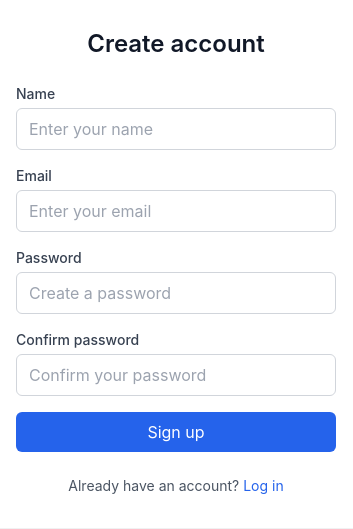
Signup › shows validation error when passwords do not match
In the field labelled "Name": [176, 129] box top-left (16, 108), bottom-right (336, 150), type "Test User"
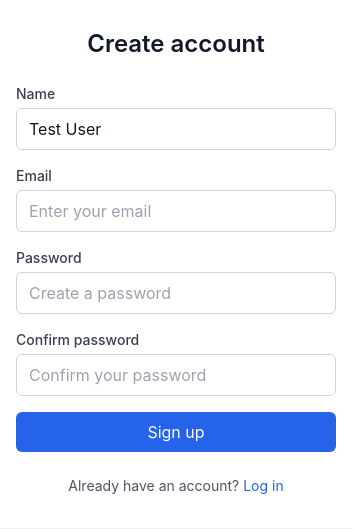
In the field labelled "Email": [176, 211] box top-left (16, 190), bottom-right (336, 232), type "test@example.com"
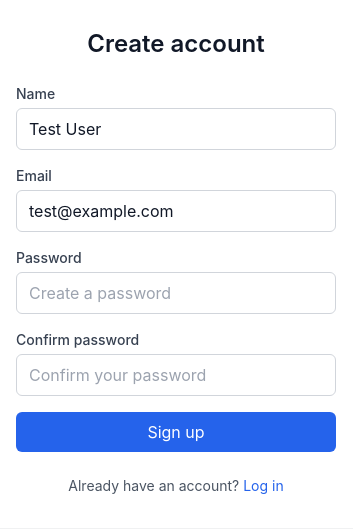
In the password field labelled "Password": [176, 293] box top-left (16, 272), bottom-right (336, 314), type "password123"
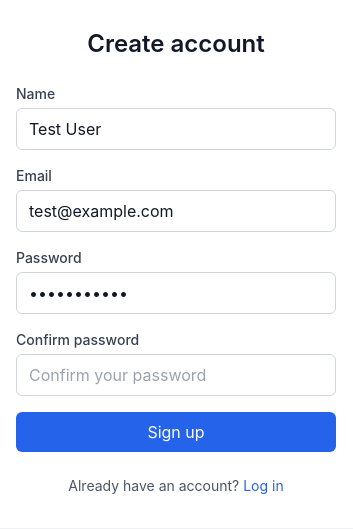
In the password field labelled "Confirm password": [176, 375] box top-left (16, 354), bottom-right (336, 396), type "password456"
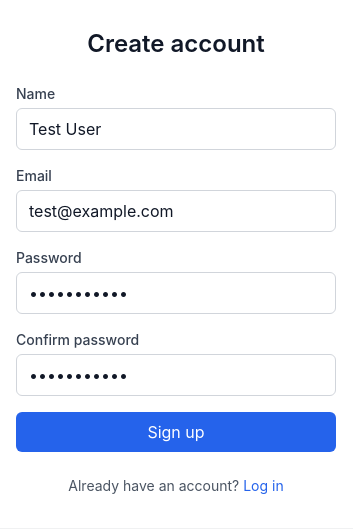
Click the button "Sign up": [176, 432] box top-left (16, 412), bottom-right (336, 452)
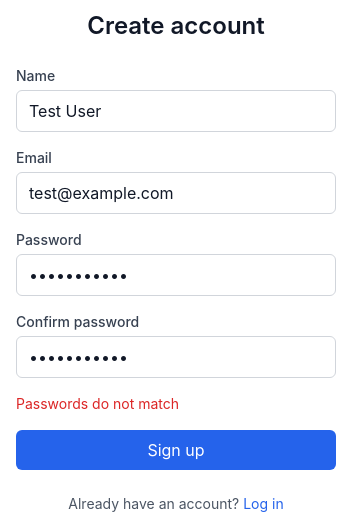
Expected: the text "Passwords do not match" is shown, top-left (16, 395), bottom-right (179, 412)
